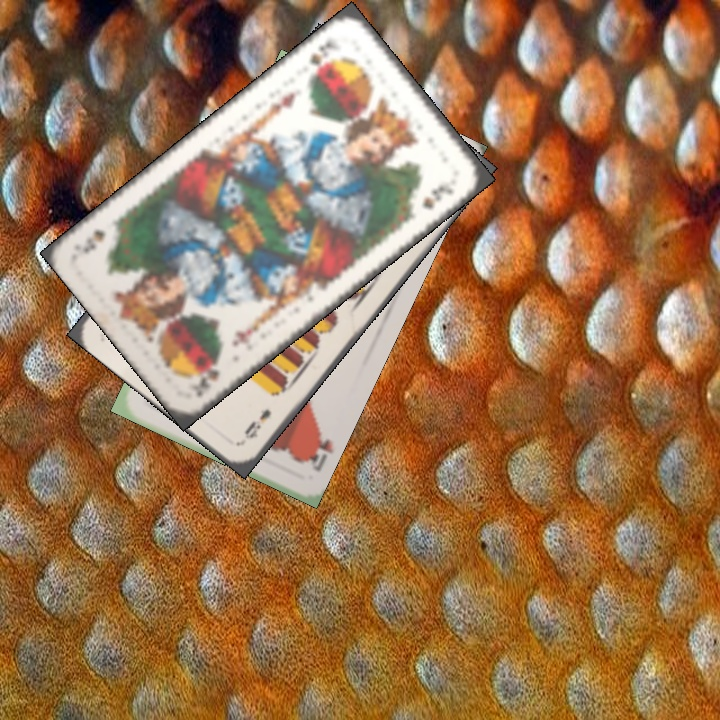E9: (240, 405, 274, 442)
HO: (299, 424, 335, 474)
SK: (186, 356, 223, 401), (304, 36, 341, 80)
